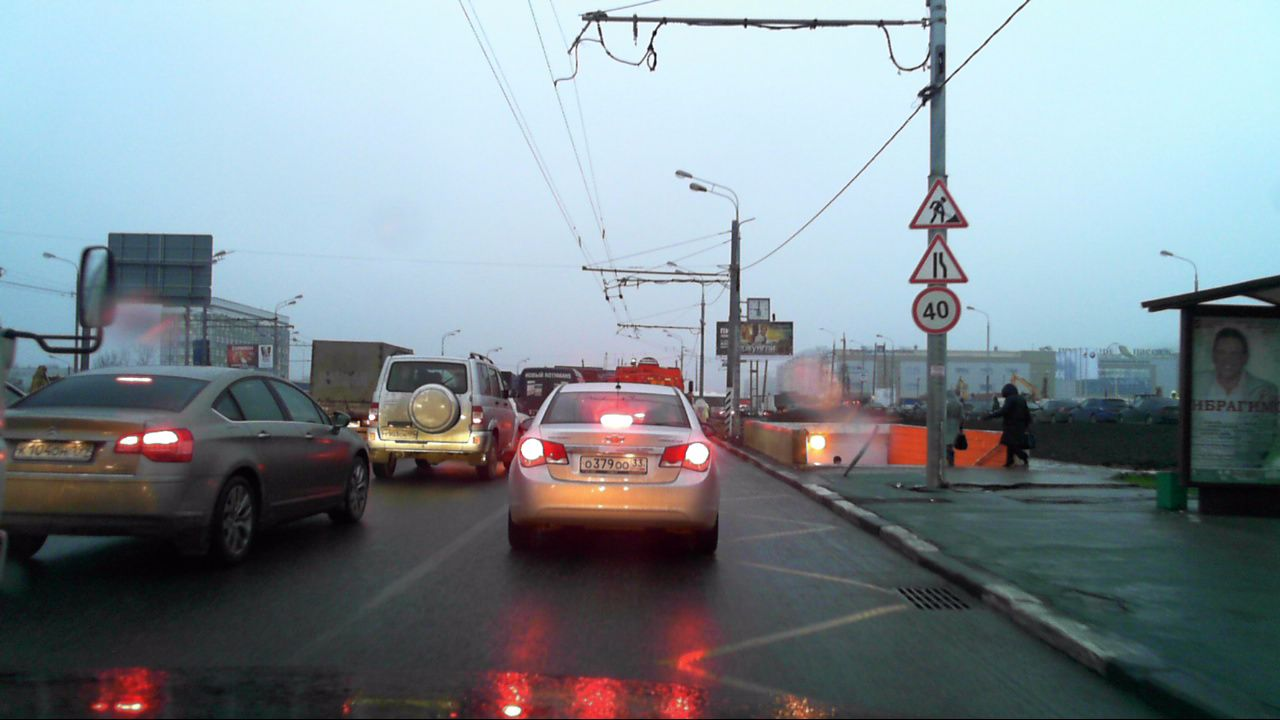speed_warning_40: (912, 285, 963, 335)
